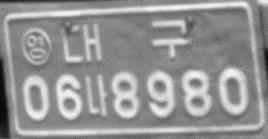0: (217, 66, 250, 116), (21, 74, 49, 121)
6: (55, 73, 84, 122)
8: (180, 67, 213, 117), (110, 72, 140, 119)
9: (144, 70, 176, 119)
나: (84, 72, 109, 120)
대구_D: (59, 16, 195, 66)
영: (20, 27, 54, 66)
